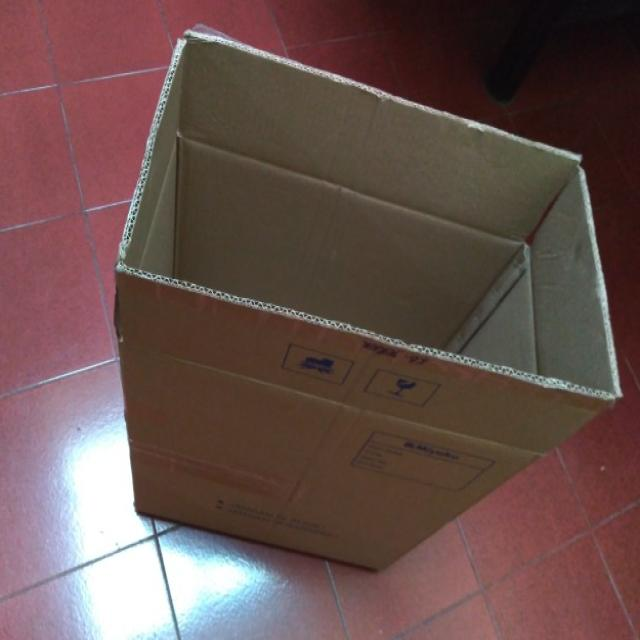Kardus: (111, 22, 624, 573)
